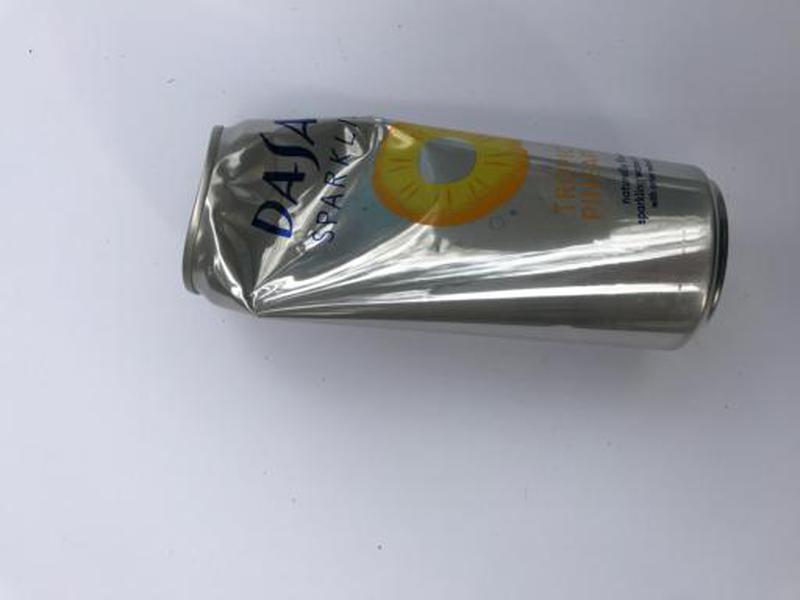can: (177, 110, 733, 346)
